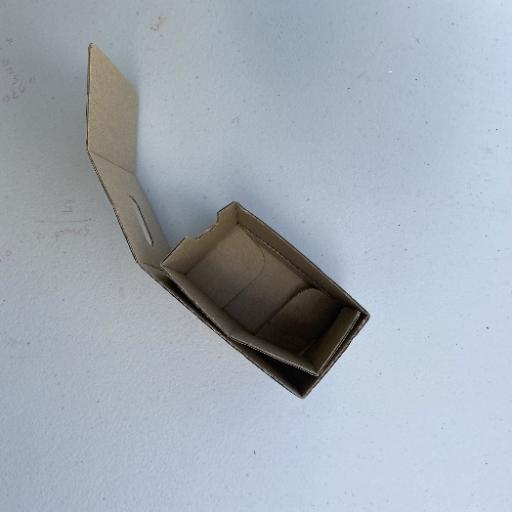Cardboard: (83, 40, 372, 401)
